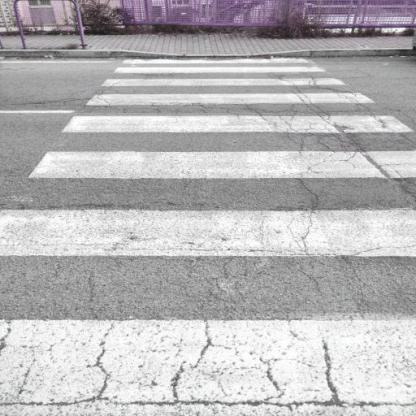crosswalk: (22, 108, 415, 188), (94, 65, 351, 92)
